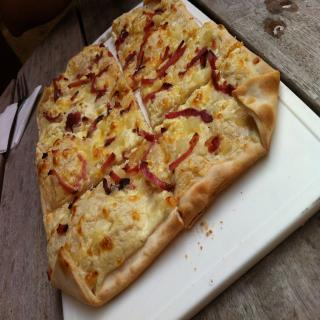Pizza: (27, 17, 275, 303)
